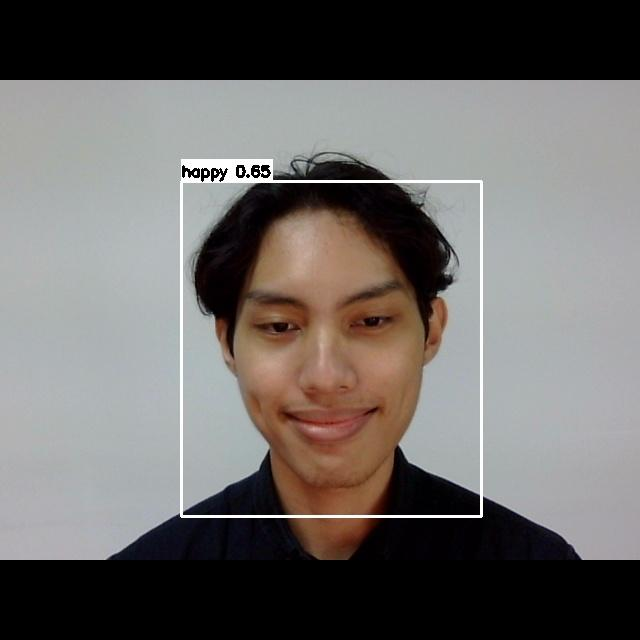Happy: (219, 266, 435, 474)
